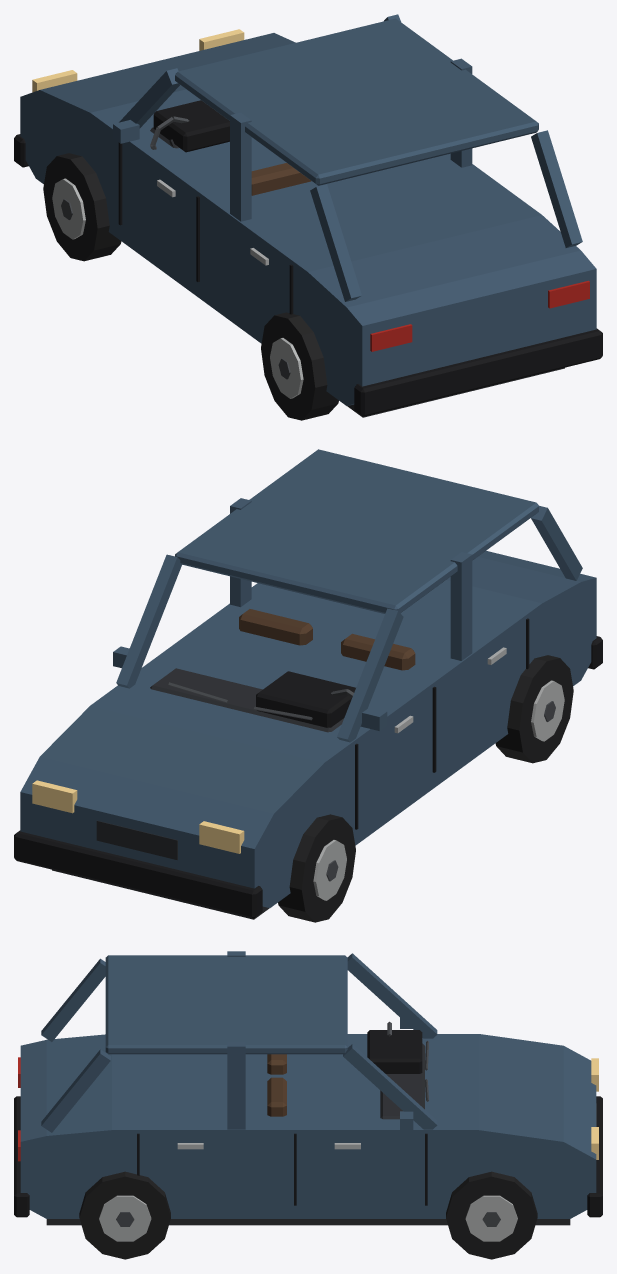
Rendered from car_clean_a.fbx.
3 renders of one model, top to bottom at view 1: azimuth 30°, elevation 25°; view 2: azimuth 150°, elevation 25°; view 3: azimuth 270°, elevation 25°, orthographic. The views are drawn at different scales.
Parts seen in each view (by area): view 1: car_clean_a; view 2: car_clean_a; view 3: car_clean_a.
Boxes of the visible parts, x1,y1,x2,y2 form: car_clean_a: (14,14,602,420); car_clean_a: (14,449,602,922); car_clean_a: (14,951,602,1259).
Size of the model in its own units: 1.98 by 1.75 by 4.5.
